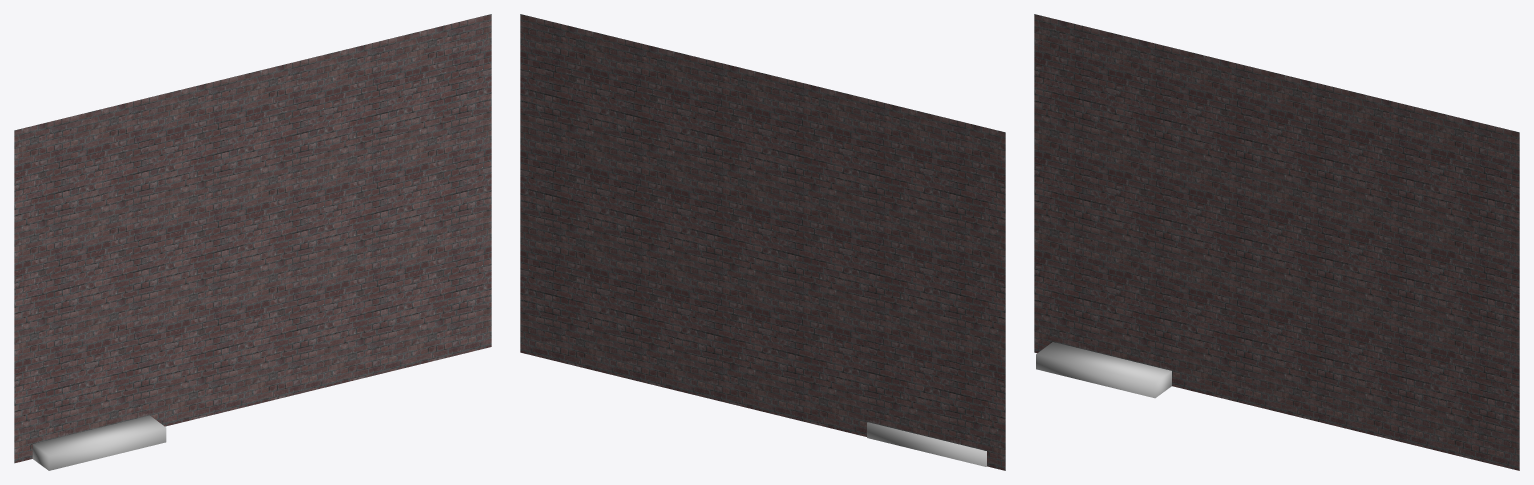
The model's file is Wall_D_Brick_MetalDoorsShop_6x_COL.FBX.
3 views of the same model, side by side, from view 1: azimuth 30°, elevation 25°; view 2: azimuth 150°, elevation 25°; view 3: azimuth 330°, elevation 25° (orthographic).
Parts seen in each view (by area): view 1: Wall_D_Brick_MetalDoorsShop_6x_COL; view 2: Wall_D_Brick_MetalDoorsShop_6x_COL; view 3: Wall_D_Brick_MetalDoorsShop_6x_COL.
Part boxes in pixels (<box>): Wall_D_Brick_MetalDoorsShop_6x_COL: <box>14,14,491,470</box>; Wall_D_Brick_MetalDoorsShop_6x_COL: <box>520,14,1005,470</box>; Wall_D_Brick_MetalDoorsShop_6x_COL: <box>1034,14,1519,470</box>.
Bounding box in the file's own units: 600 × 400 × 37.84.
